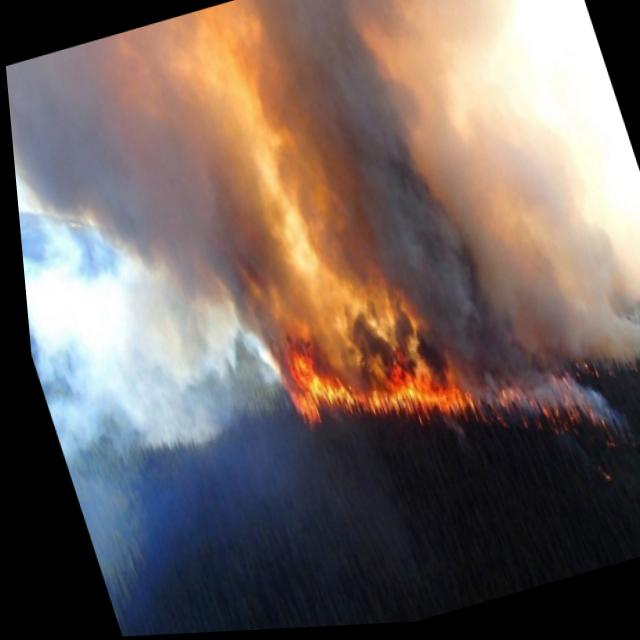Fire: (249, 227, 640, 534)
